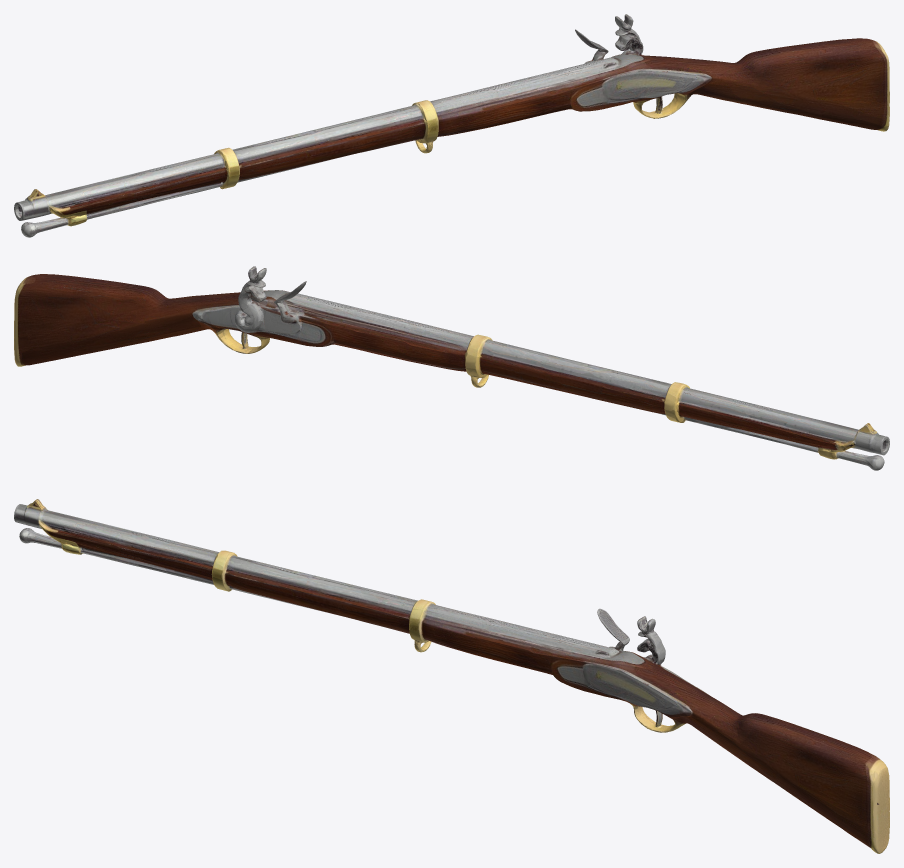
File: musket.glb
3 renders of one model, top to bottom at view 1: azimuth 30°, elevation 25°; view 2: azimuth 150°, elevation 25°; view 3: azimuth 330°, elevation 25°, orthographic.
Parts seen in each view (by area): view 1: output_unwrapped; view 2: output_unwrapped; view 3: output_unwrapped.
Boxes of the visible parts, left/top/right/bottom form: output_unwrapped: left=14, top=14, right=889, bottom=237; output_unwrapped: left=14, top=266, right=889, bottom=470; output_unwrapped: left=14, top=499, right=889, bottom=853.
Size of the model in its own units: 1.9 by 0.3469 by 0.1005.
1 material, 1 textured.
